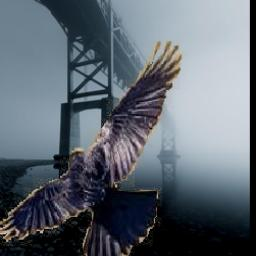Crow: (0, 30, 186, 256)
